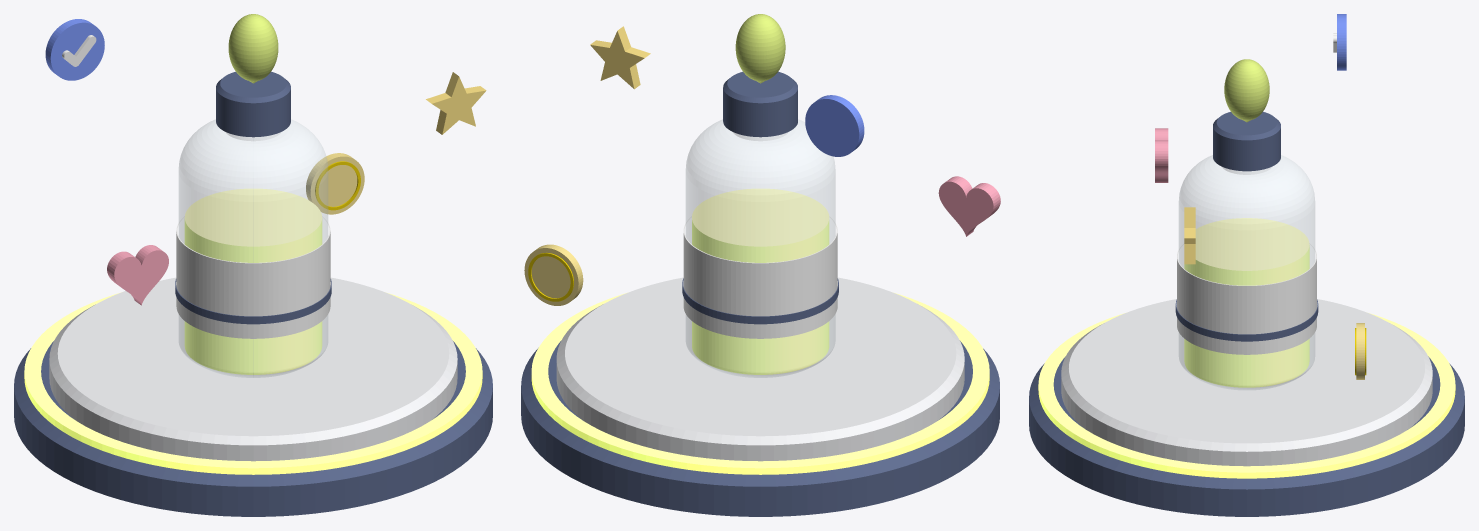
Rendered from pixelcliq-product-scene.glb.
The picture shows the model from 3 angles, left to right: view 1: azimuth 30°, elevation 25°; view 2: azimuth 150°, elevation 25°; view 3: azimuth 270°, elevation 25°; orthographic projection. The views are drawn at different scales.
Parts seen in each view (by area): view 1: pedestal_top, bottle_glass, pedestal_base, bottle_liquid, bottle_label, pedestal_ring, dropper_collar, dropper_bulb, item_badge, item_coin, item_heart, item_star (+2 smaller); view 2: pedestal_top, bottle_glass, pedestal_base, bottle_liquid, bottle_label, pedestal_ring, dropper_collar, item_badge, dropper_bulb, item_coin, item_heart, item_star (+2 smaller); view 3: pedestal_top, bottle_glass, pedestal_base, bottle_liquid, bottle_label, pedestal_ring, dropper_collar, dropper_bulb, label_band, item_heart, item_star, item_badge (+1 smaller).
Part boxes in pixels (x1=…): pedestal_top: x1=49, y1=277, x2=457, y2=461; bottle_glass: x1=179, y1=119, x2=327, y2=377; pedestal_base: x1=14, y1=341, x2=492, y2=516; bottle_liquid: x1=184, y1=188, x2=322, y2=374; bottle_label: x1=176, y1=216, x2=330, y2=338; pedestal_ring: x1=24, y1=292, x2=482, y2=474; dropper_collar: x1=216, y1=71, x2=290, y2=137; dropper_bulb: x1=228, y1=14, x2=278, y2=83; item_badge: x1=45, y1=19, x2=104, y2=80; item_coin: x1=306, y1=153, x2=364, y2=214; item_heart: x1=107, y1=245, x2=168, y2=305; item_star: x1=426, y1=72, x2=486, y2=134; pedestal_top: x1=556, y1=277, x2=964, y2=461; bottle_glass: x1=686, y1=119, x2=835, y2=377; pedestal_base: x1=521, y1=341, x2=999, y2=516; bottle_liquid: x1=692, y1=188, x2=829, y2=374; bottle_label: x1=683, y1=216, x2=837, y2=338; pedestal_ring: x1=531, y1=292, x2=989, y2=474; dropper_collar: x1=723, y1=71, x2=797, y2=137; item_badge: x1=805, y1=95, x2=864, y2=156; dropper_bulb: x1=735, y1=14, x2=785, y2=83; item_coin: x1=524, y1=244, x2=583, y2=305; item_heart: x1=938, y1=176, x2=1000, y2=236; item_star: x1=590, y1=26, x2=650, y2=89; pedestal_top: x1=1061, y1=299, x2=1432, y2=466; bottle_glass: x1=1179, y1=155, x2=1314, y2=389; pedestal_base: x1=1029, y1=356, x2=1464, y2=516; bottle_liquid: x1=1184, y1=218, x2=1309, y2=387; bottle_label: x1=1177, y1=243, x2=1316, y2=354; pedestal_ring: x1=1038, y1=313, x2=1455, y2=478; dropper_collar: x1=1213, y1=111, x2=1280, y2=171; dropper_bulb: x1=1224, y1=59, x2=1269, y2=122; label_band: x1=1175, y1=299, x2=1318, y2=341; item_heart: x1=1155, y1=128, x2=1168, y2=182; item_star: x1=1184, y1=207, x2=1195, y2=264; item_badge: x1=1337, y1=14, x2=1346, y2=70.
Bounding box in the file's own units: 2.3 × 2.12 × 2.3.
